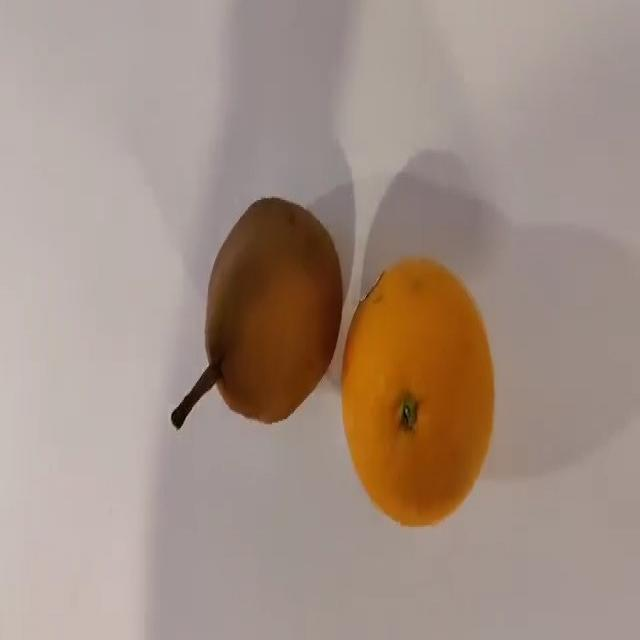Orange: (340, 256, 495, 527)
